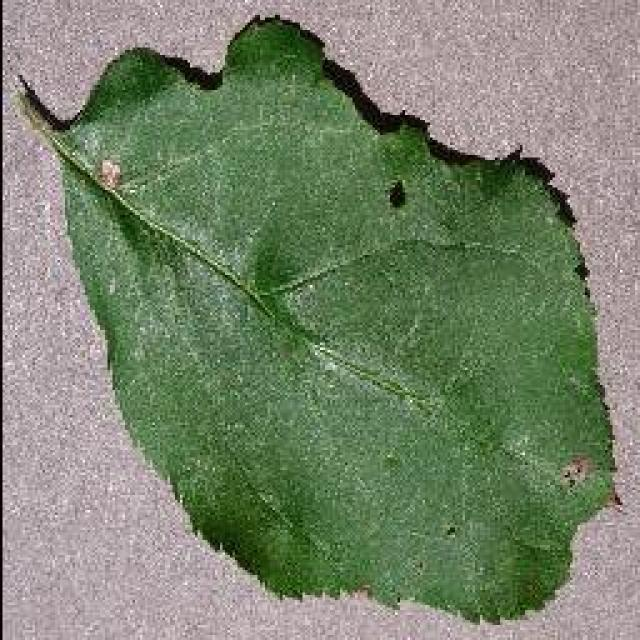Black_rot: (15, 13, 620, 625)
